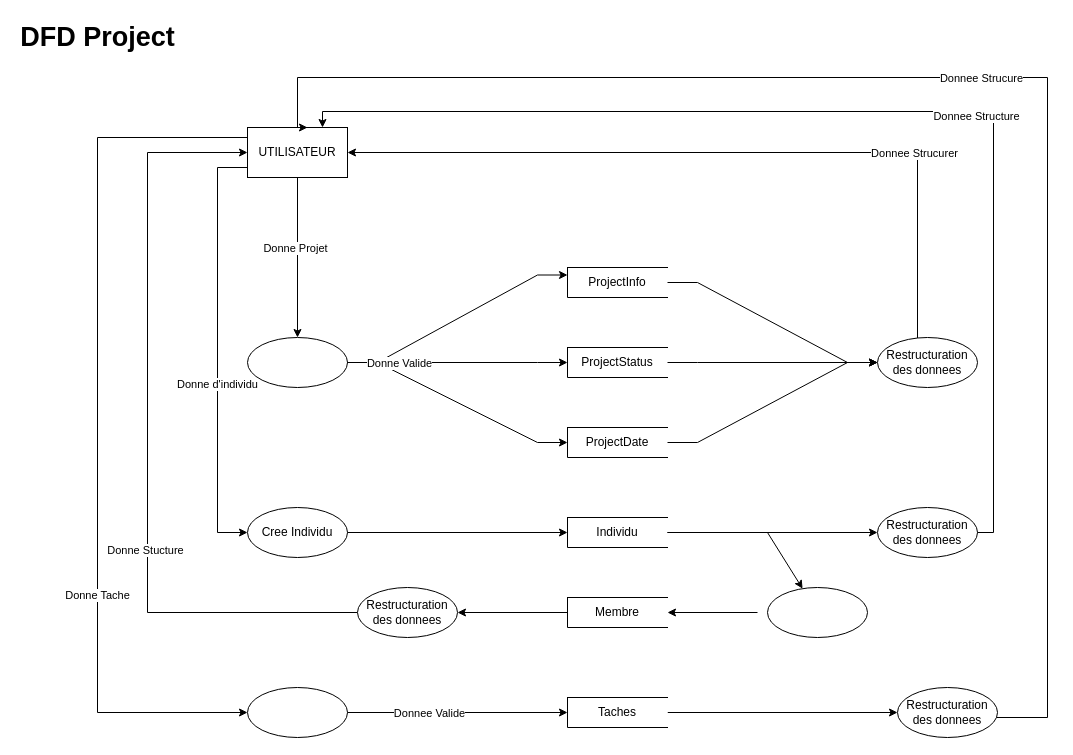
The diagram is 1073 pixels wide and 755 high, and some of its shapes have lost their labels. Here are the shapes that lost their labels. From the top down, the centre of each, then its label:
At (297,362): "Cree Project".
At (817,612): "Ajout au men bre".
At (297,712): "Cree Tache".
